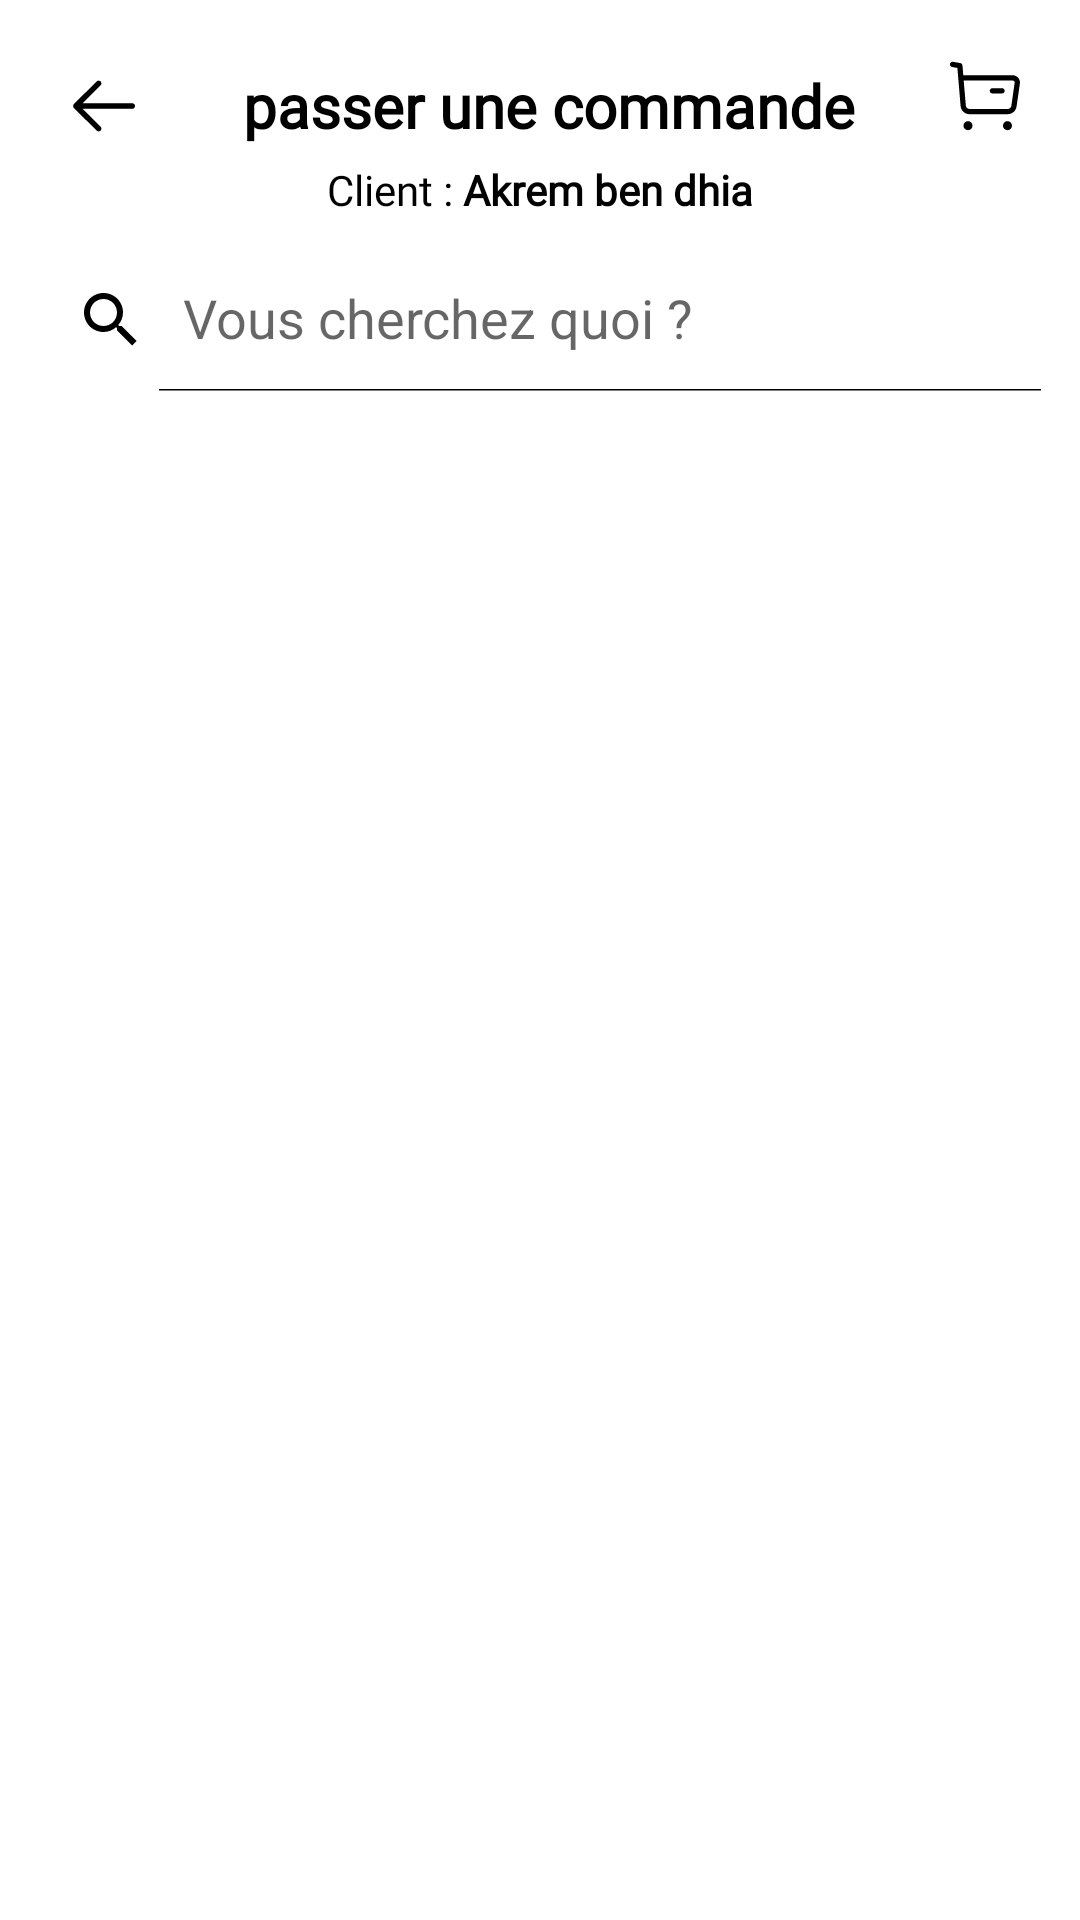

Icon bounding boxes for this 1080px×1920px phone screenshot, format [left=x1, top=y1, right=x2, bottom=y2]:
arrow back: [left=73, top=80, right=135, bottom=132]
empty panier: [left=950, top=61, right=1020, bottom=131]
